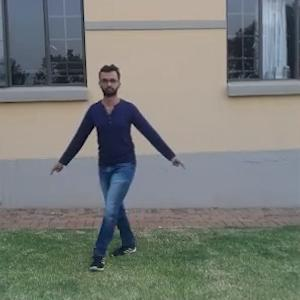land: (53, 73, 175, 242)
